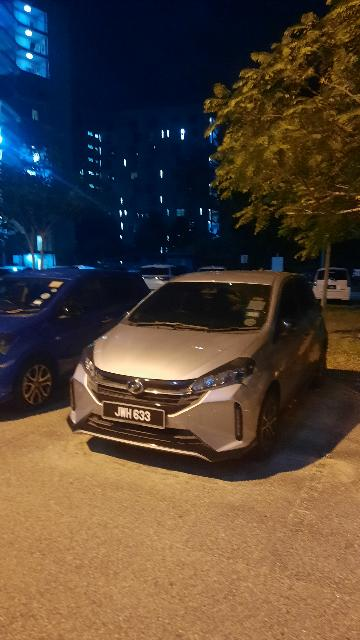License_Plate: (100, 397, 170, 434)
car: (68, 265, 332, 464)
